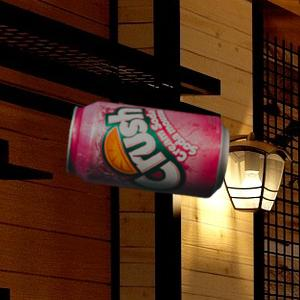can: (67, 99, 232, 199)
